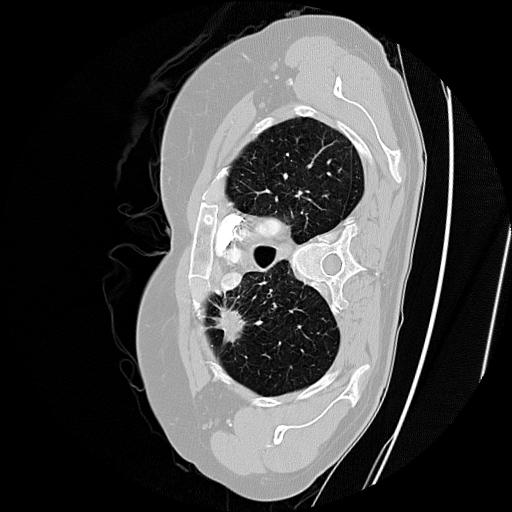nodule: (209, 304, 248, 343)
